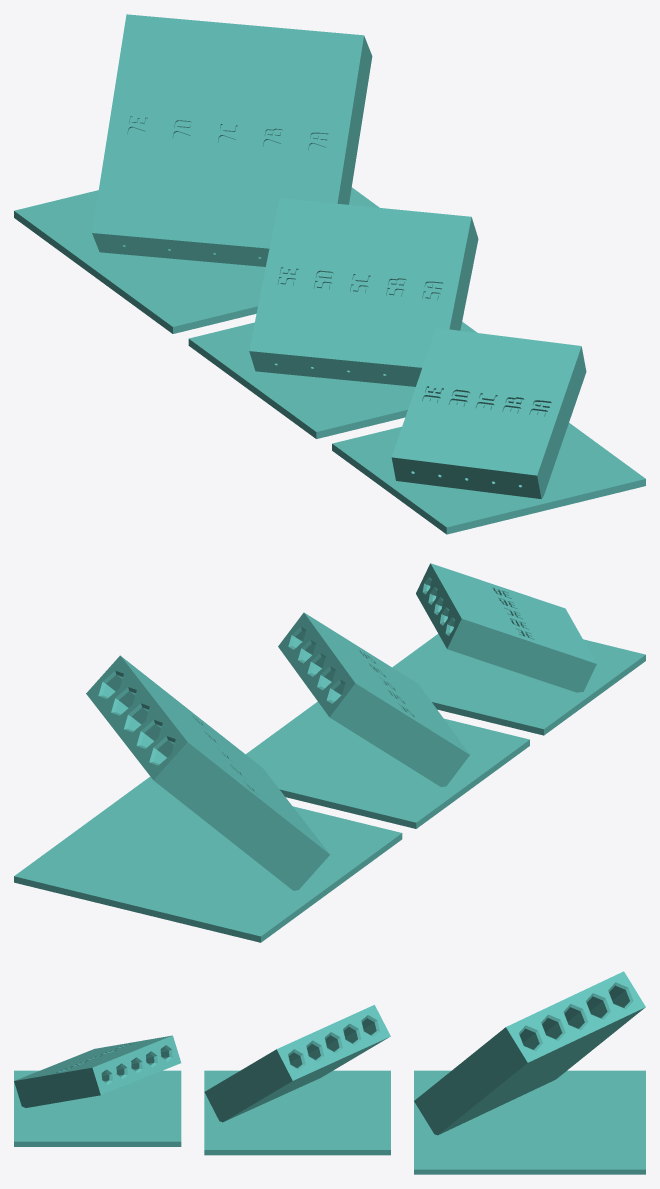
Rendered from coupon.glb.
The picture shows the model from 3 angles, top to bottom: view 1: azimuth 30°, elevation 25°; view 2: azimuth 150°, elevation 25°; view 3: azimuth 270°, elevation 25°; orthographic projection. The views are drawn at different scales.
Visible parts, largest first — view 1: Three five-slot fit spectra; view 2: Three five-slot fit spectra; view 3: Three five-slot fit spectra.
Boxes of the visible parts, box(x1,y1,x2,y2) form: Three five-slot fit spectra: box(14, 14, 645, 534); Three five-slot fit spectra: box(14, 563, 645, 942); Three five-slot fit spectra: box(14, 971, 645, 1174).
Size of the model in its own units: 0.0814 by 0.0535 by 0.2198.
